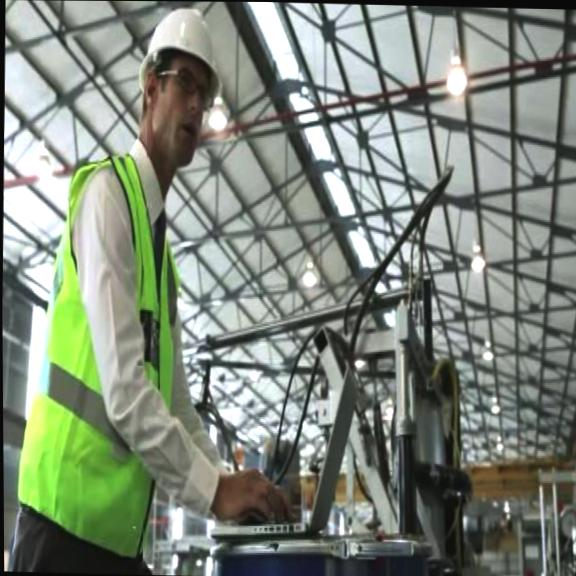safety_vest: (8, 144, 200, 548)
